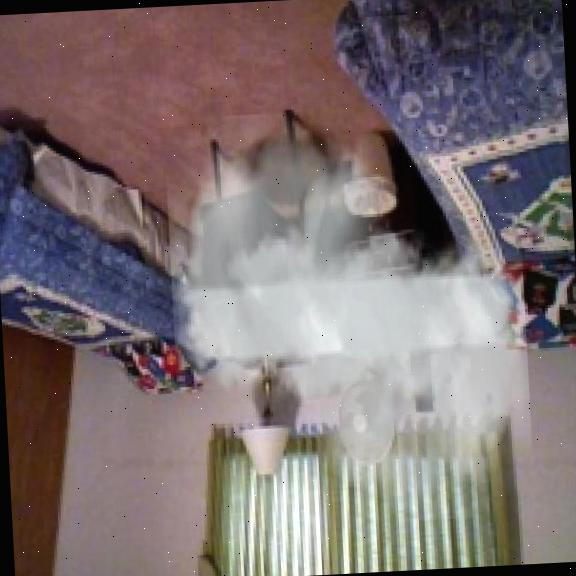smoke: (163, 100, 535, 533)
